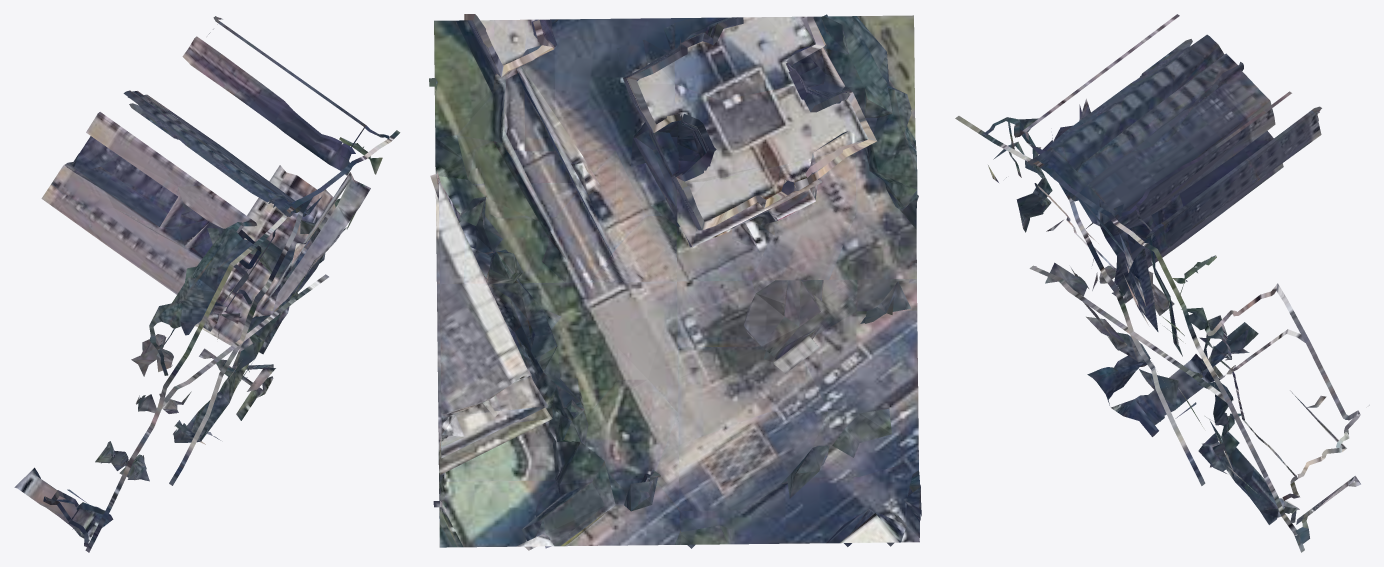
3 views of the same model, side by side, from view 1: azimuth 30°, elevation 25°; view 2: azimuth 150°, elevation 25°; view 3: azimuth 270°, elevation 25° (orthographic). The views are drawn at different scales.
Size of the model in its own units: 82.39 by 87.83 by 76.6.
1 material, 1 textured.
